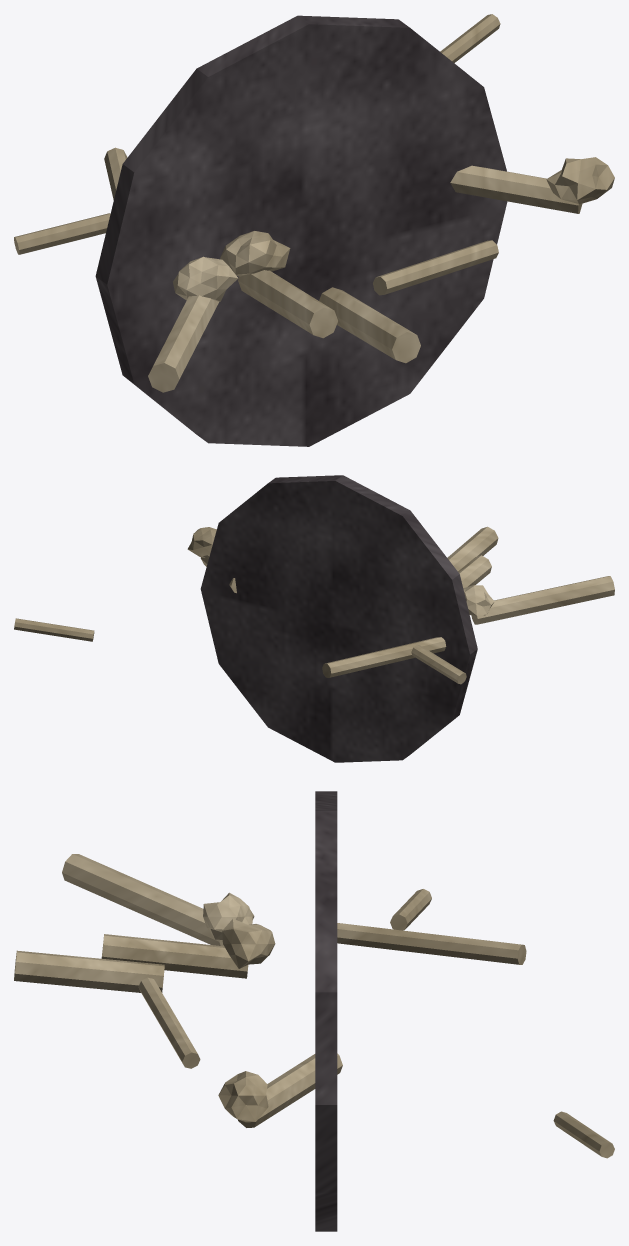
File: 0233_bone_heap_08.glb
The picture shows the model from 3 angles, top to bottom: view 1: azimuth 30°, elevation 25°; view 2: azimuth 150°, elevation 25°; view 3: azimuth 270°, elevation 25°; orthographic projection. The views are drawn at different scales.
Visible parts, largest first — view 1: ash, bone; view 2: ash, bone; view 3: bone, ash.
Boxes of the visible parts, x1=… form: ash: x1=95, y1=15, x2=507, y2=446; bone: x1=14, y1=14, x2=614, y2=392; ash: x1=200, y1=475, x2=477, y2=762; bone: x1=14, y1=526, x2=614, y2=684; bone: x1=14, y1=854, x2=614, y2=1158; ash: x1=315, y1=791, x2=337, y2=1231.
Bounding box in the file's own units: 2.48 × 1.6 × 2.17.
2 materials, 2 textured.
